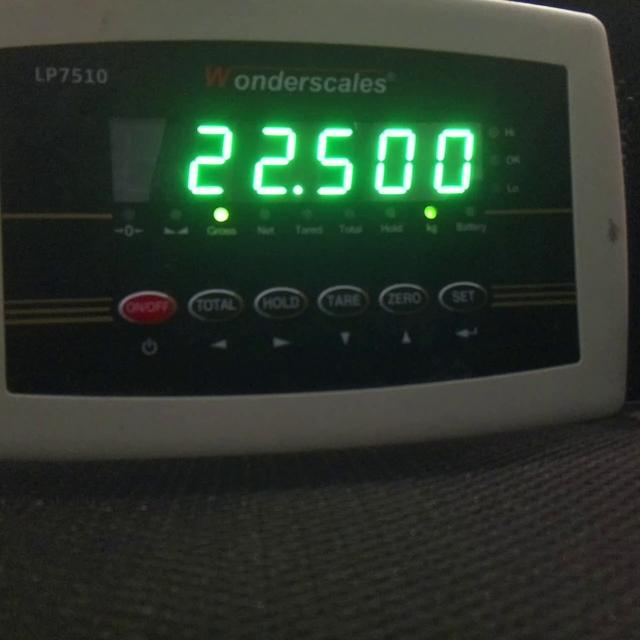.: (290, 183, 304, 196)
0: (374, 126, 416, 194), (434, 128, 475, 195)
2: (252, 125, 297, 196), (188, 124, 232, 196)
5: (310, 112, 360, 209)
